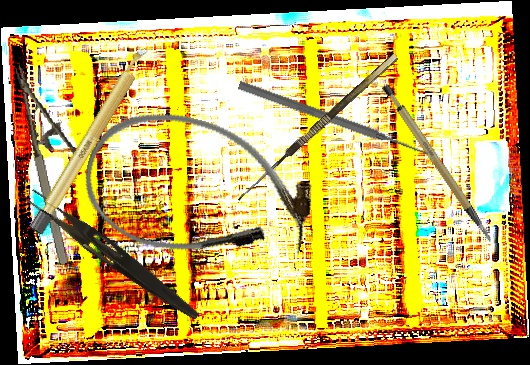Cannula: (71, 94, 326, 285)
Dressing Forceps: (21, 188, 206, 323)
Hook Surgical: (234, 53, 407, 210)
Needle Holder: (15, 57, 100, 266)
Pusher: (236, 79, 431, 160)
Scalpel Handle: (28, 42, 154, 237), (378, 72, 495, 258)
